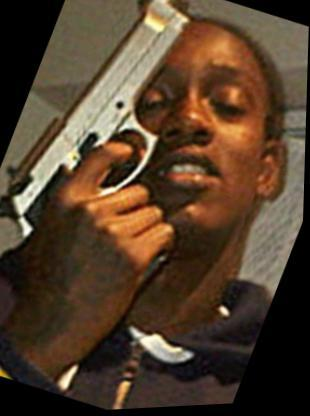pistol: (0, 0, 256, 308)
